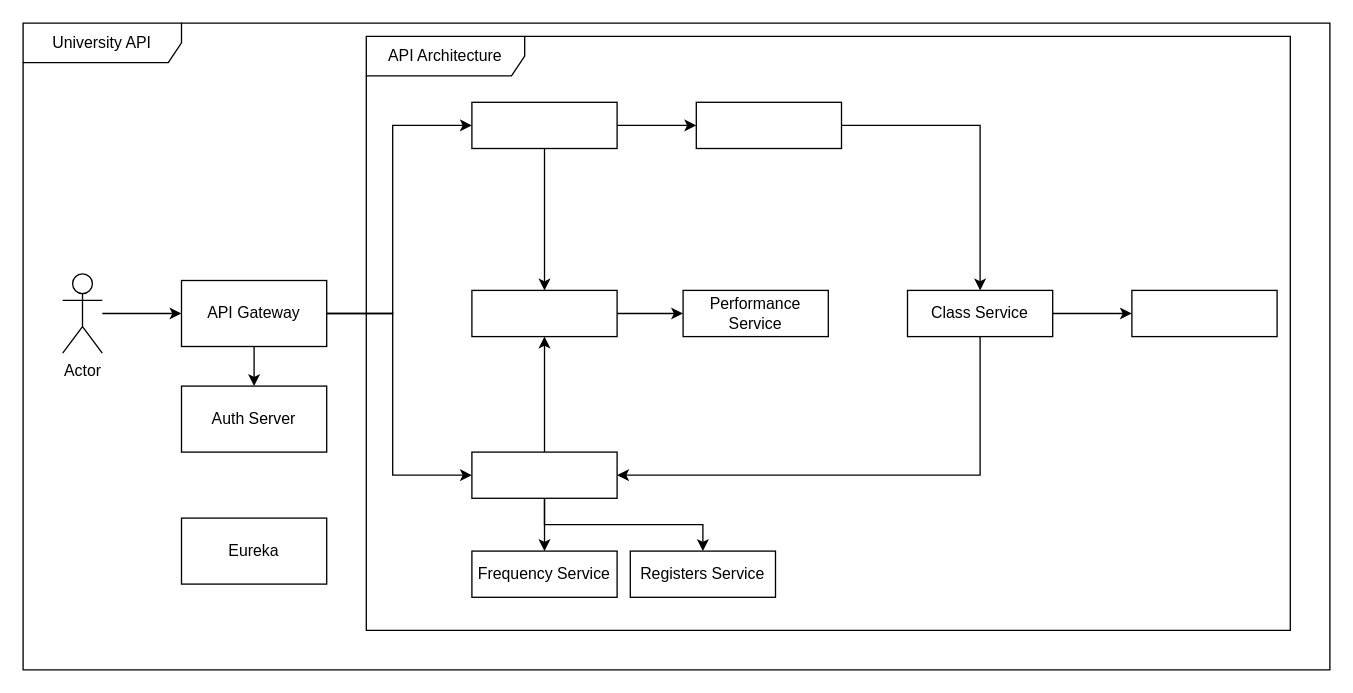
This 1353x693 diagram has some shape labels left out. Here are the shapes that lost their labels. From the top down, the centre of each, then its label:
(544,124): Student Service
(768,124): Schedule Service
(544,313): History Service
(1204,313): Subject Service
(544,474): Professor Service
